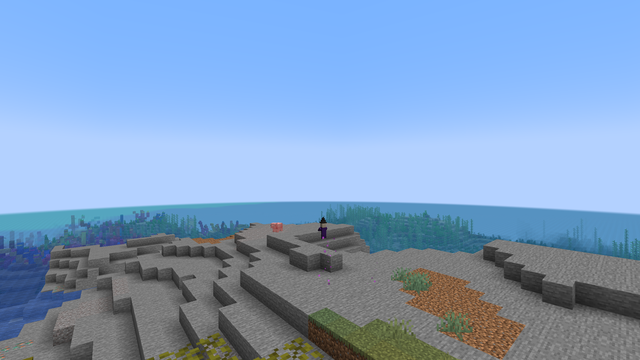cochons: (271, 222, 282, 232)
sorcieres: (319, 221, 326, 240)
